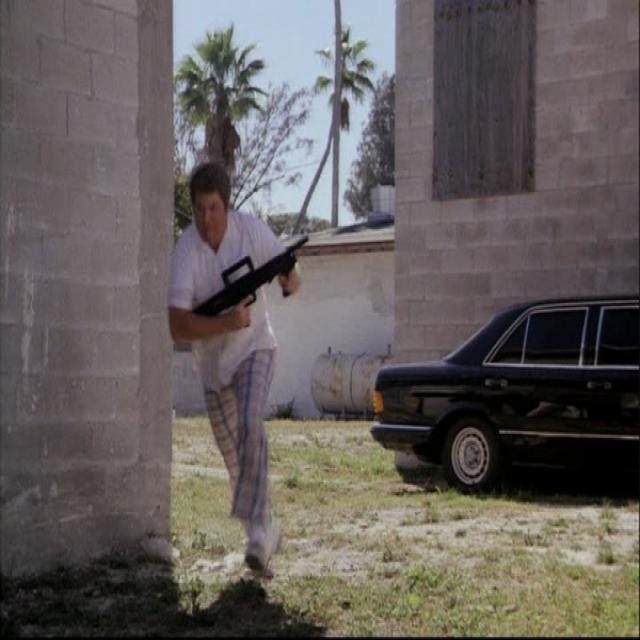rifle: (197, 235, 314, 321)
